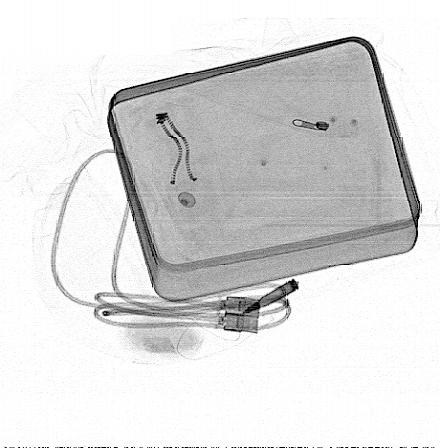Bullet: (242, 278, 300, 314)
